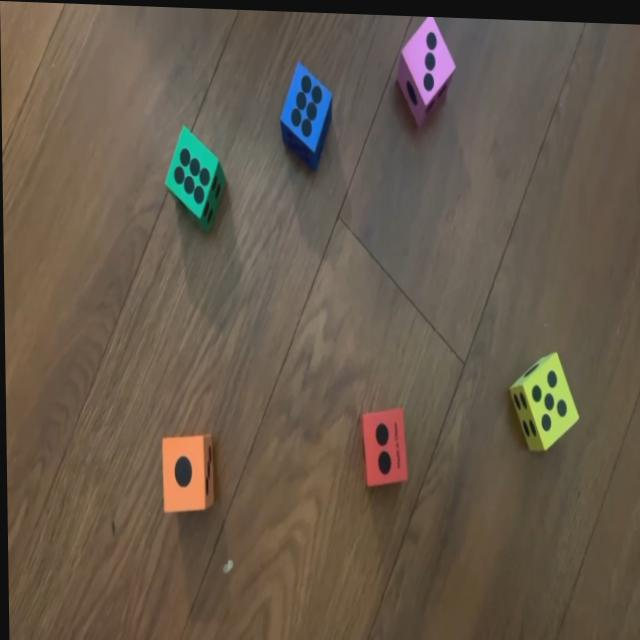cube: (163, 117, 228, 227), (279, 56, 334, 168), (358, 401, 409, 485)
